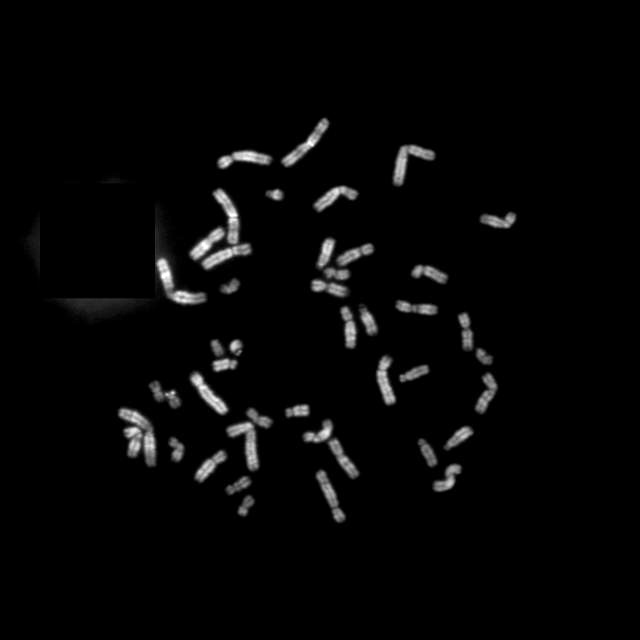chromosome: (282, 119, 330, 170), (155, 257, 205, 305), (119, 408, 157, 467), (390, 142, 436, 188), (189, 371, 229, 415), (227, 422, 260, 470), (315, 470, 345, 522), (213, 188, 239, 246), (202, 243, 252, 270), (329, 438, 361, 479), (312, 185, 358, 213), (189, 227, 225, 261), (195, 450, 228, 484), (216, 150, 272, 170), (376, 355, 396, 407), (474, 372, 498, 414), (336, 243, 374, 267), (478, 208, 518, 230), (394, 298, 438, 318), (432, 463, 462, 492), (338, 305, 357, 349), (409, 264, 448, 284), (444, 426, 474, 452), (301, 419, 333, 443), (310, 277, 348, 297), (121, 426, 143, 460), (415, 437, 437, 468), (458, 311, 474, 351), (316, 238, 336, 268), (245, 408, 273, 429), (360, 304, 378, 336), (398, 364, 430, 382), (226, 476, 252, 496), (168, 437, 184, 461), (148, 381, 164, 404), (324, 268, 350, 282), (164, 390, 182, 410), (237, 495, 255, 515), (285, 404, 309, 418), (220, 280, 240, 296), (210, 338, 226, 358), (212, 359, 238, 371), (476, 348, 492, 364), (265, 188, 283, 200), (230, 339, 242, 357)
